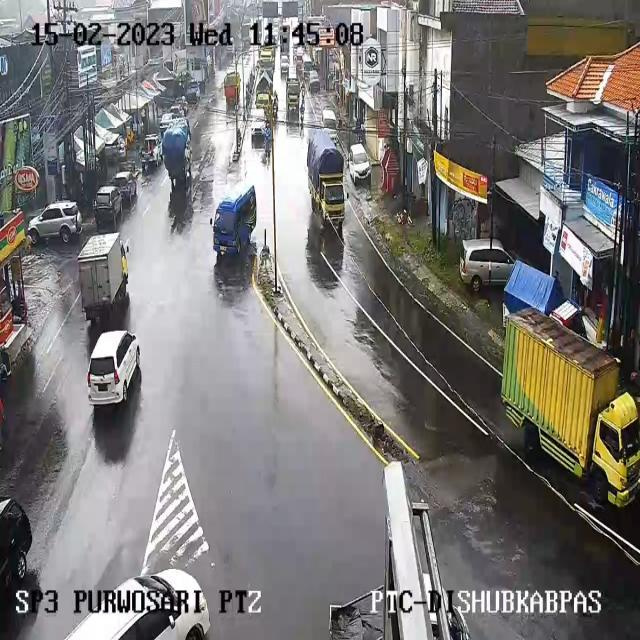Bus: (208, 189, 260, 255)
Car: (48, 570, 208, 638), (87, 330, 141, 404), (458, 239, 514, 292), (0, 497, 31, 591), (27, 200, 83, 244), (94, 184, 125, 230), (347, 144, 371, 184), (111, 170, 138, 204), (140, 134, 163, 169), (104, 132, 125, 160), (258, 44, 277, 69), (160, 112, 182, 133), (251, 122, 266, 148), (255, 90, 272, 112), (286, 78, 300, 104), (186, 80, 202, 101), (306, 70, 320, 92), (322, 108, 337, 128), (302, 54, 313, 76), (169, 105, 186, 119), (327, 128, 340, 146), (146, 56, 164, 67), (272, 17, 282, 31), (280, 55, 290, 68), (296, 46, 304, 59)
Truck: (510, 311, 640, 505), (304, 129, 344, 232), (79, 240, 128, 309), (162, 121, 194, 183), (223, 72, 242, 108)
